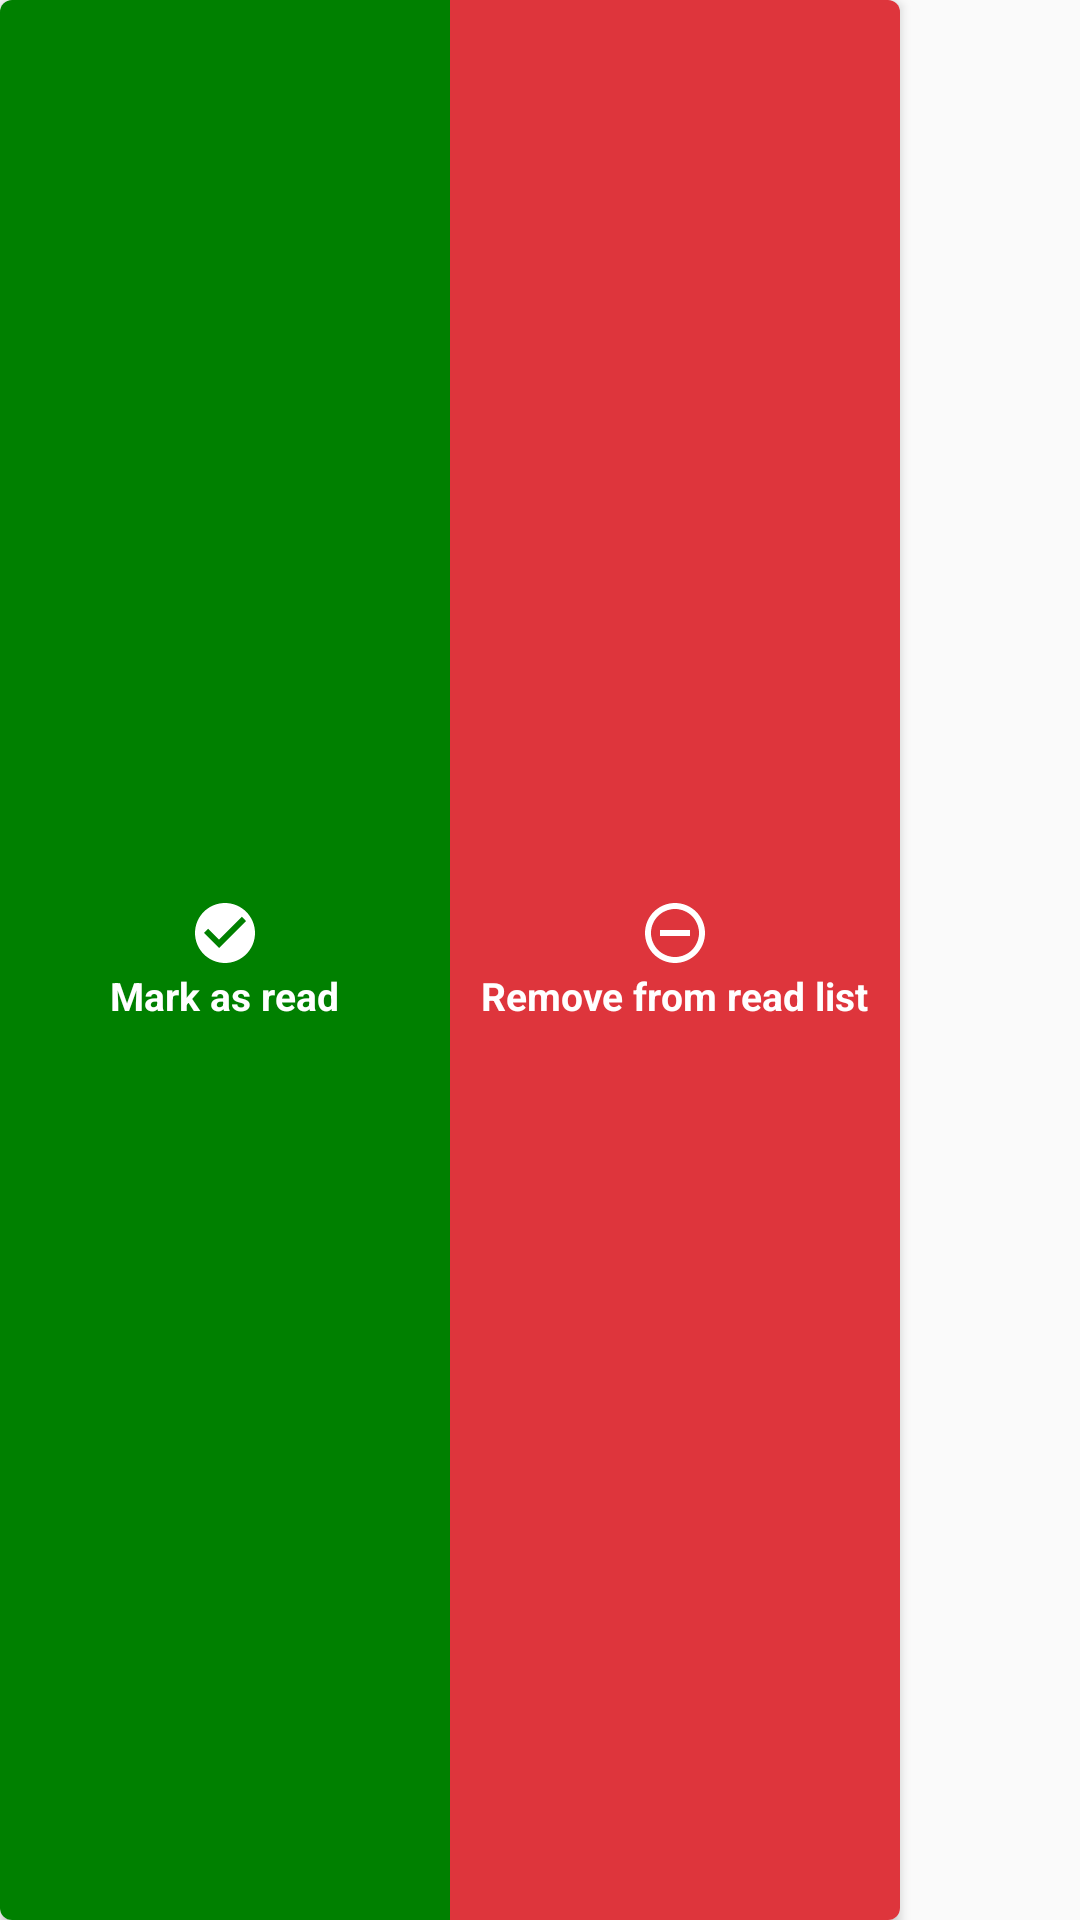

Screen size 1080px×1920px. Icon name, then its box in pixels as (left=x1, top=y1, right=x2, bottom=y2):
check: (left=195, top=903, right=255, bottom=963)
